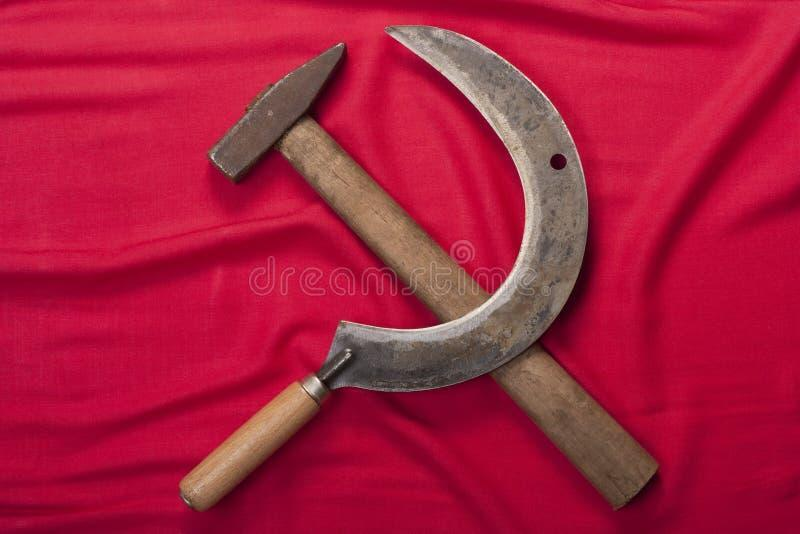foice: (181, 27, 587, 510)
